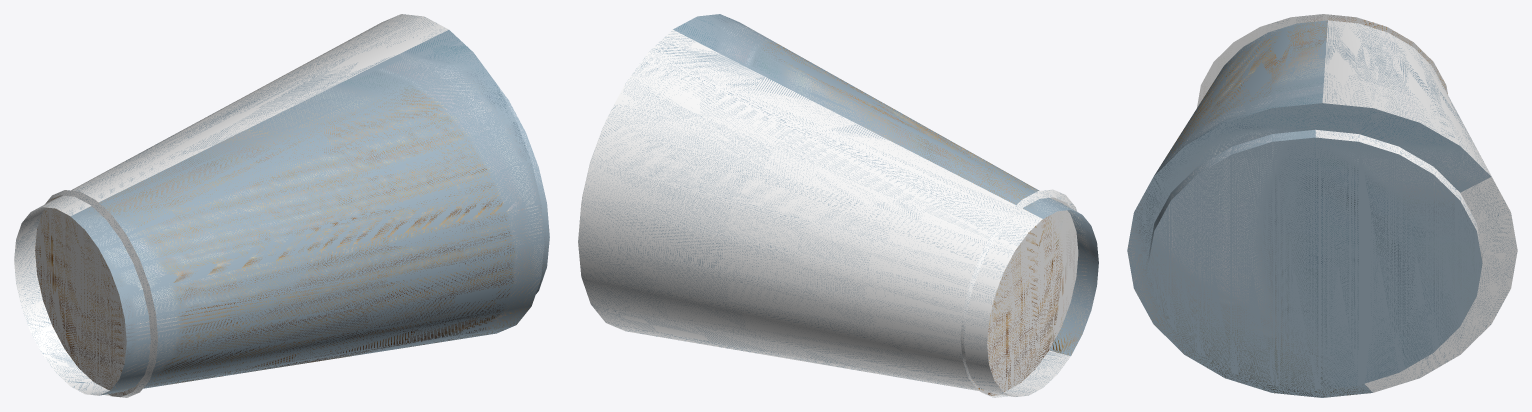
The model's file is coffee cup.fbx.
The picture shows the model from 3 angles, left to right: view 1: azimuth 30°, elevation 25°; view 2: azimuth 150°, elevation 25°; view 3: azimuth 270°, elevation 25°; orthographic projection. The views are drawn at different scales.
Parts seen in each view (by area): view 1: Model; view 2: Model; view 3: Model.
Part boxes in pixels (left/top/right/bottom): Model: left=14, top=14, right=549, bottom=397; Model: left=578, top=14, right=1098, bottom=397; Model: left=1127, top=14, right=1517, bottom=397.
Size of the model in its own units: 87.13 by 61.31 by 73.57.
